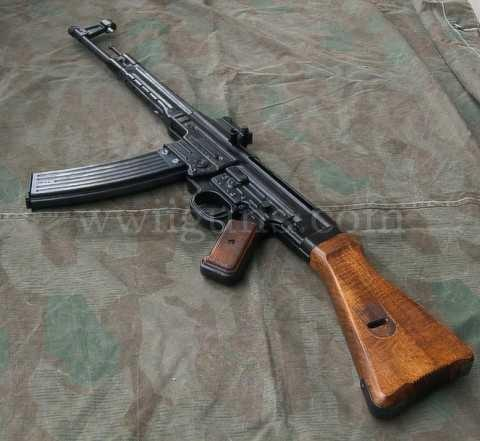heavyweapon: (24, 17, 480, 423)
